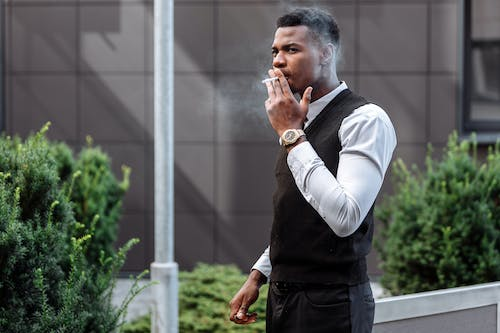cigarette: (261, 76, 278, 84)
